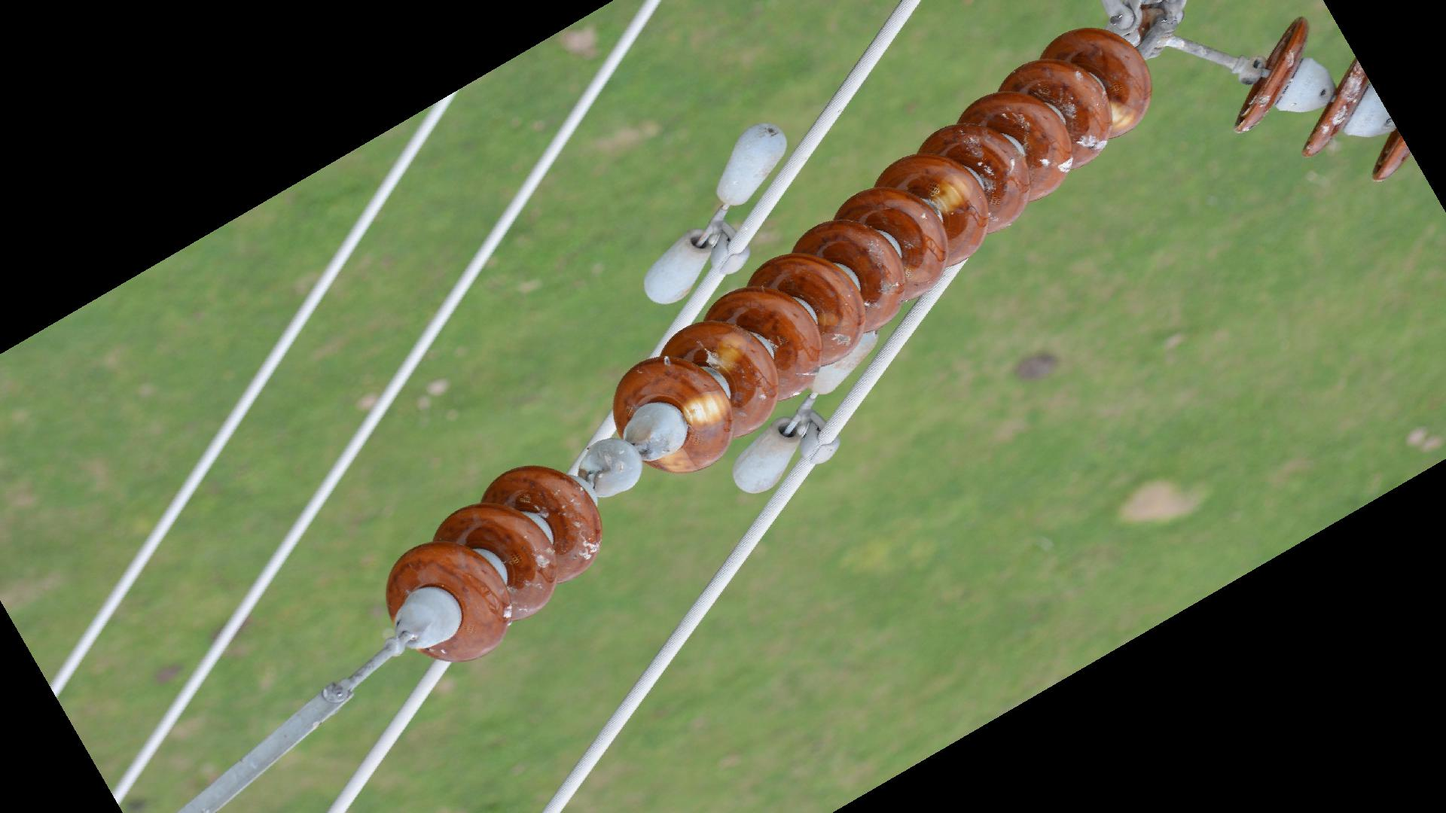insulator: (606, 23, 1155, 481), (382, 459, 608, 668), (1227, 12, 1428, 187)
insulator_flashover: (928, 169, 975, 213), (682, 388, 731, 428), (708, 330, 749, 375), (651, 445, 699, 476), (1106, 99, 1143, 139)
